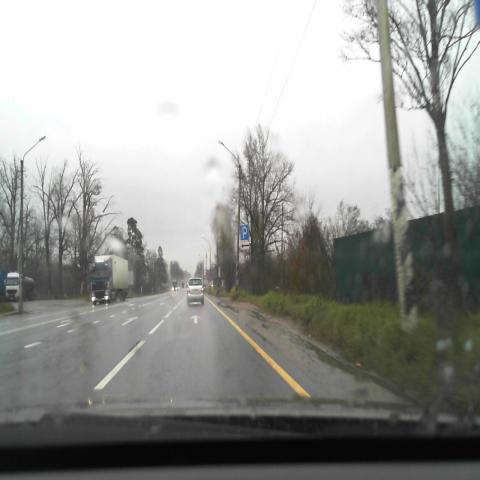6_4: (240, 225, 249, 240)
